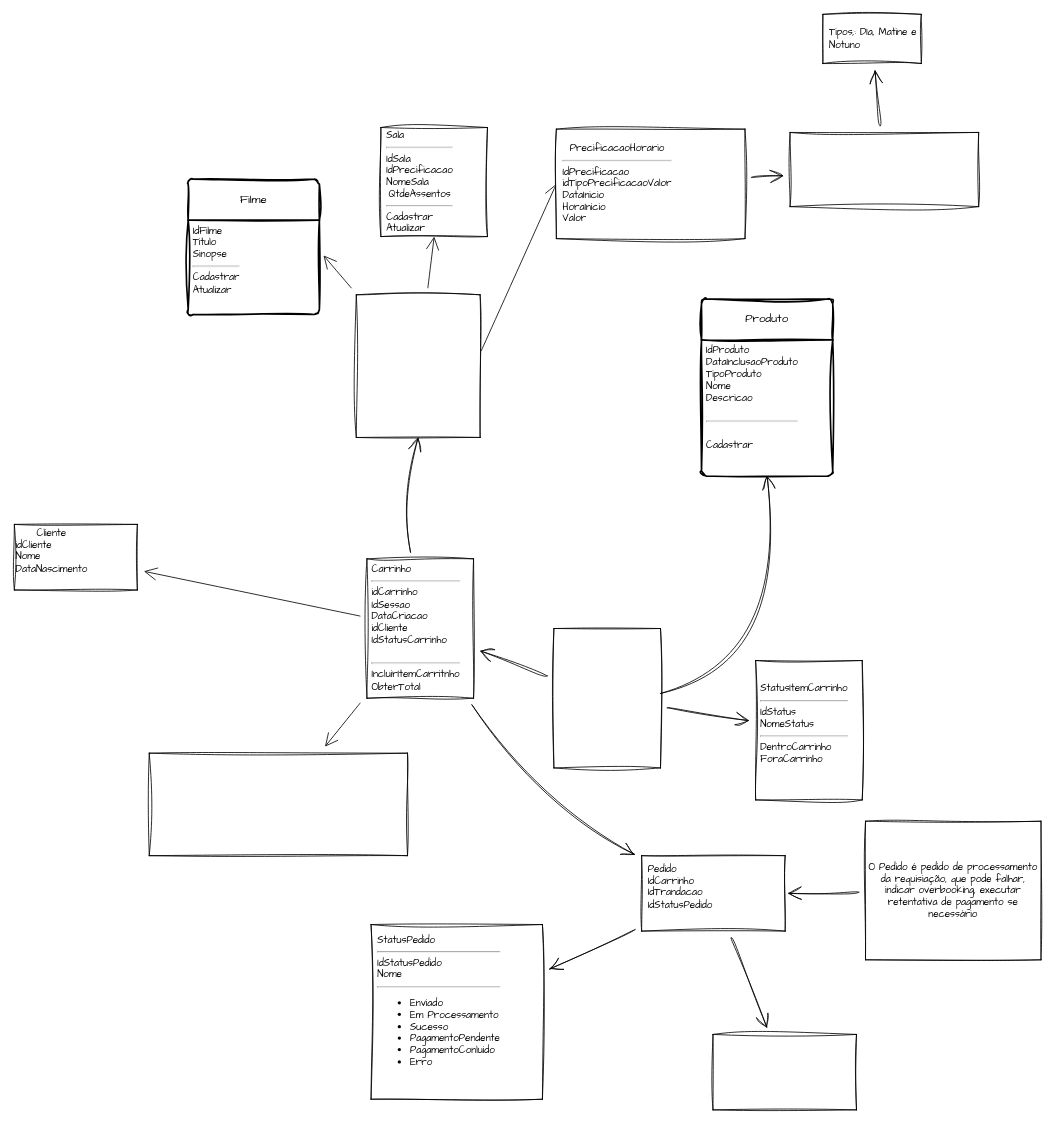
Image size: 1055x1124. Some labels were removed from this diagram. Each missing label, with the box of its shape:
ItemCarrinho idItem idCarrinho IdIngresso StatusItem IdProdutos: (553, 628, 661, 768)
Sessao idSessao idSala idFilme idPrecificacao: (355, 294, 480, 437)
StatusCarrinho IdStatusCarrinho NomeStatus Aberto, Fechado, Abandonado: (148, 752, 408, 856)
TipoPrecificao idTipoPrecificacao Nome: (789, 132, 979, 207)
TransacaoPagamento IdTransacao IdStatusTransacao: (712, 1034, 856, 1110)
